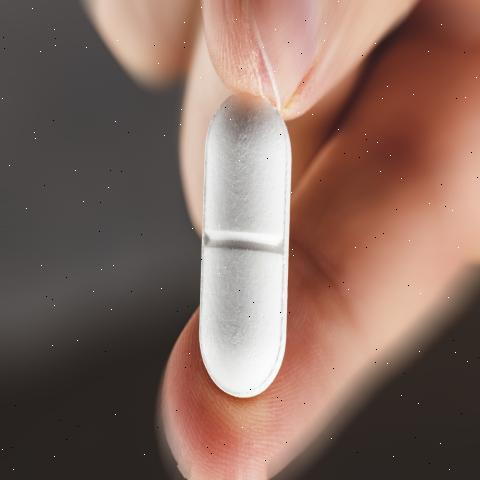Pill: (163, 100, 314, 433)
